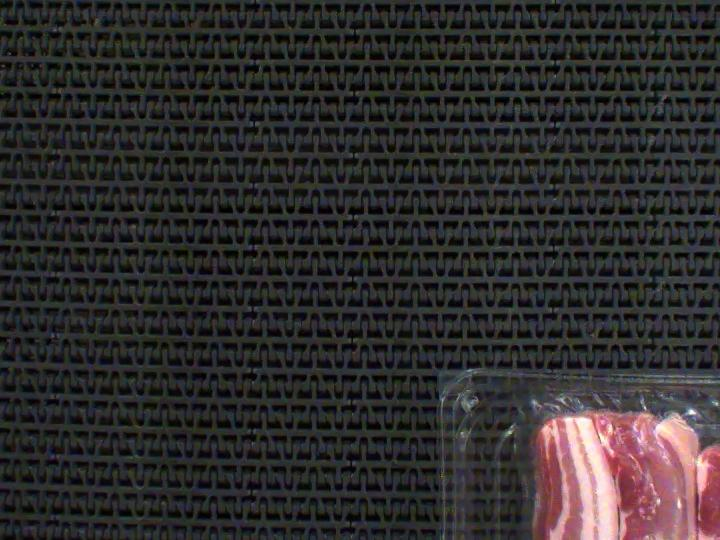unsealed: (493, 372, 720, 540)
